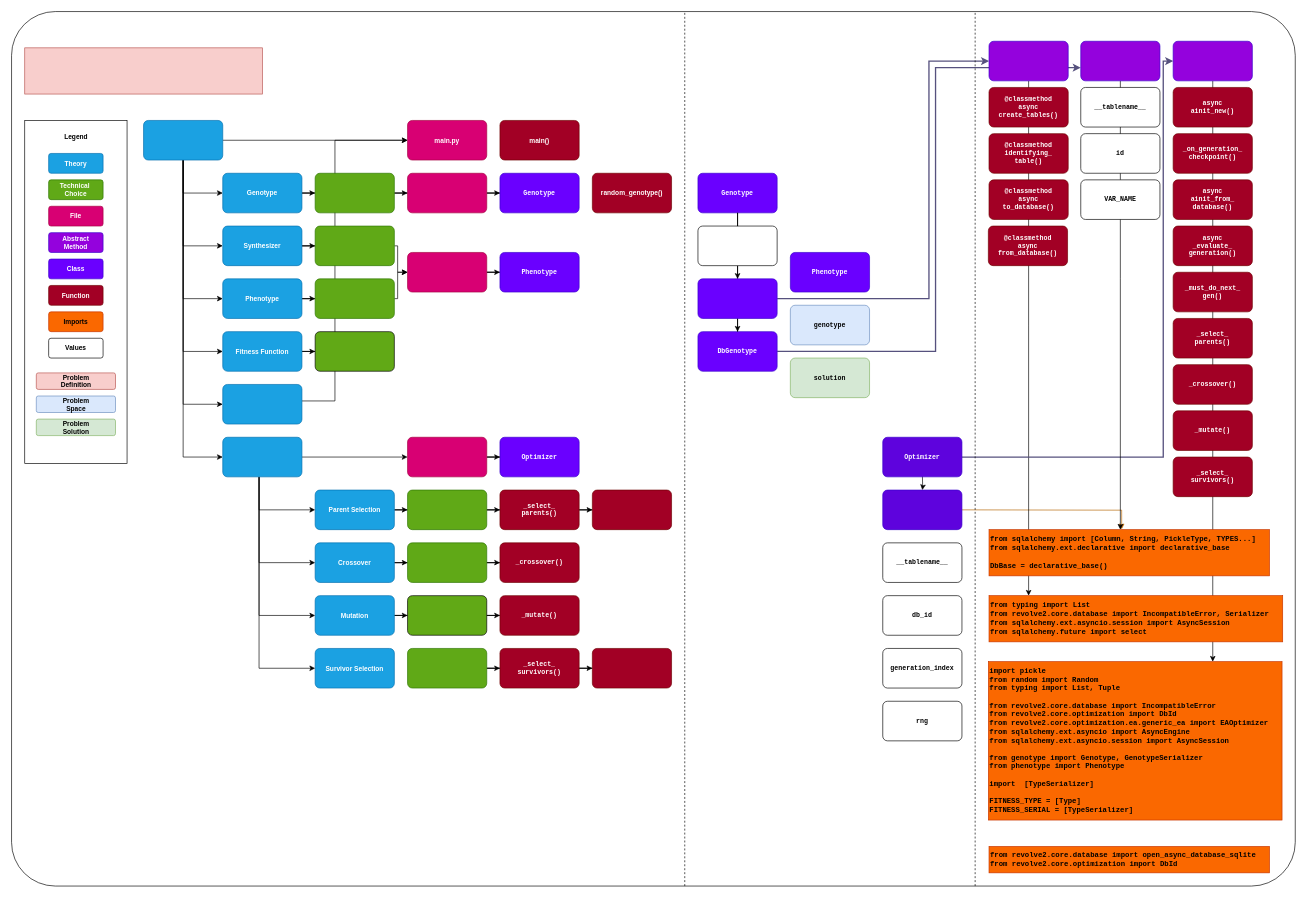
The diagram is 1307 pixels wide and 898 high, and some of its shapes have lost their labels. Here are the shapes that lost their labels. From the top down, the box of each, then its label:
(24, 47, 262, 94): Problem Statement
(988, 41, 1068, 81): Serializer
(1080, 41, 1160, 81): DbBase
(1172, 41, 1252, 81): EAOptimizer
(143, 120, 223, 160): Evolutionary Algorithm
(407, 173, 487, 213): genotype.py
(697, 225, 777, 266): items
(407, 252, 487, 292): phenotype.py
(697, 278, 777, 318): GenotypeSerializer
(222, 384, 302, 424): Initial Population Generation
(222, 437, 302, 477): Optimisation Loop
(407, 437, 487, 477): optimzer.py
(592, 489, 672, 530): select_parents_ tournament()
(882, 489, 962, 530): DbOptimizerState
(592, 648, 672, 688): select_survivors_ tournament()
